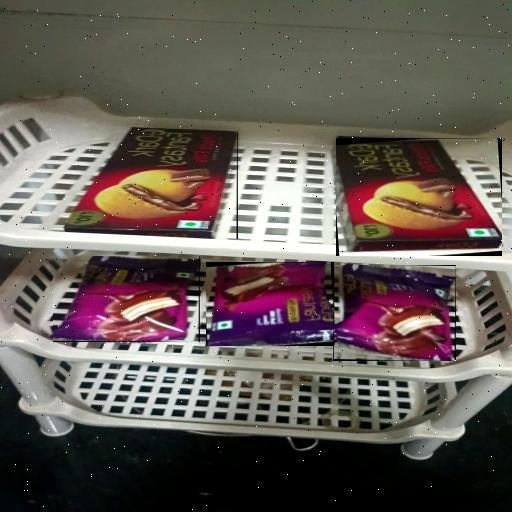Choco Fills: (336, 138, 502, 256), (65, 131, 238, 239)
Choco Pie: (53, 256, 200, 342), (333, 265, 456, 361), (206, 262, 334, 346)
